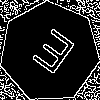E: (24, 27, 77, 84)
